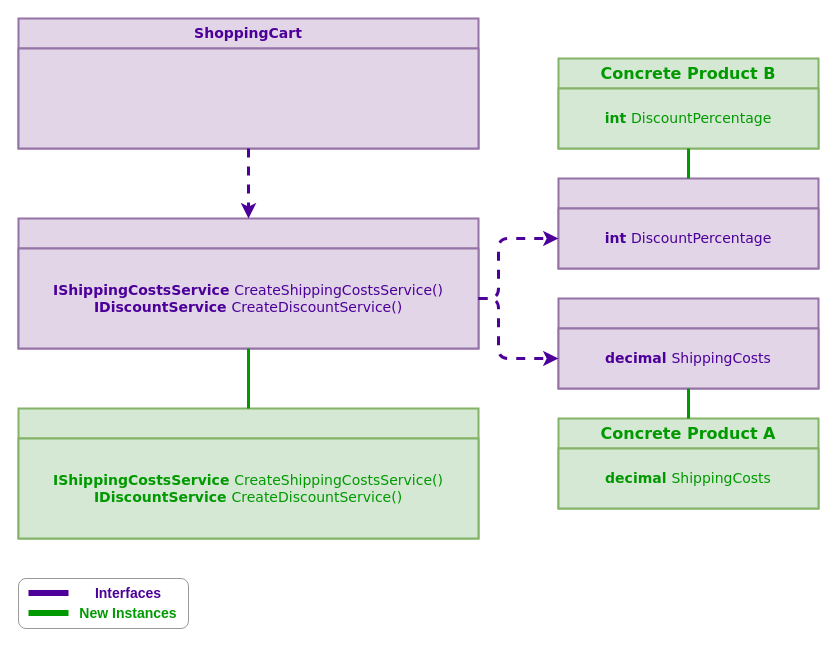
Image size: 836x646. Some labels were removed from this diagram. The shapes that lost their labels are listed below. From the top down, each one's box as (x1, y1, x2, y2) in pixels, then its label:
(17, 47, 479, 149): ShoppingCart( IShoppingCartPurchaseFactory factory ) void CalculateCosts()
(557, 177, 819, 269): Abstract Product A
(17, 217, 479, 349): Abstract Factory
(557, 297, 819, 389): Abstract Product B
(17, 407, 479, 539): Concrete Factory
